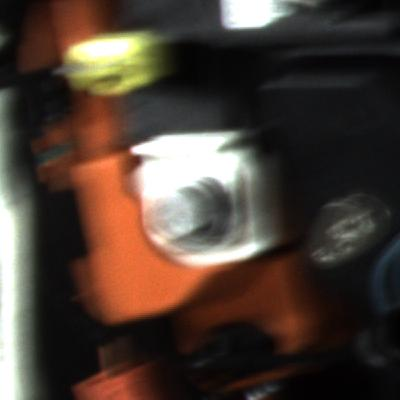nut_b: (148, 163, 233, 255)
